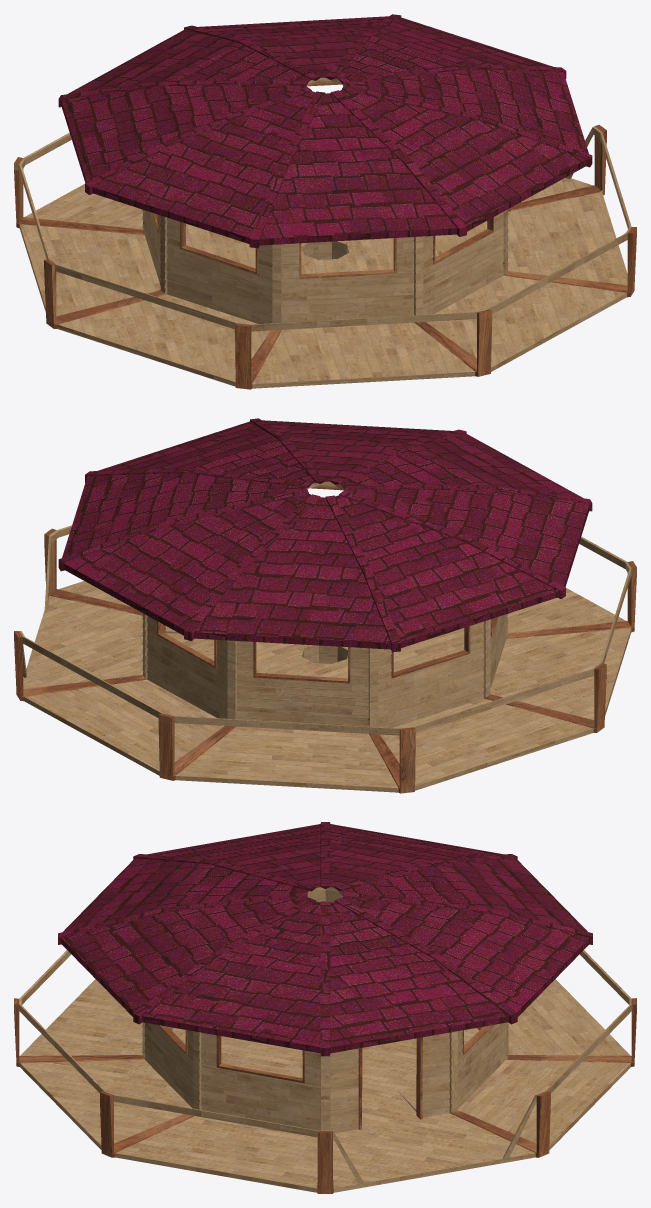
Rendered from treehouse.gltf.
3 renders of one model, top to bottom at view 1: azimuth 30°, elevation 25°; view 2: azimuth 150°, elevation 25°; view 3: azimuth 270°, elevation 25°, orthographic. The views are drawn at different scales.
Parts seen in each view (by area): view 1: treehouse; view 2: treehouse; view 3: treehouse.
Part boxes in pixels (x1=…): treehouse: x1=14, y1=14, x2=636, y2=389; treehouse: x1=14, y1=418, x2=636, y2=793; treehouse: x1=14, y1=822, x2=636, y2=1193.
Bounding box in the file's own units: 10.36 × 3.59 × 10.36.
3 materials, 3 textured.
